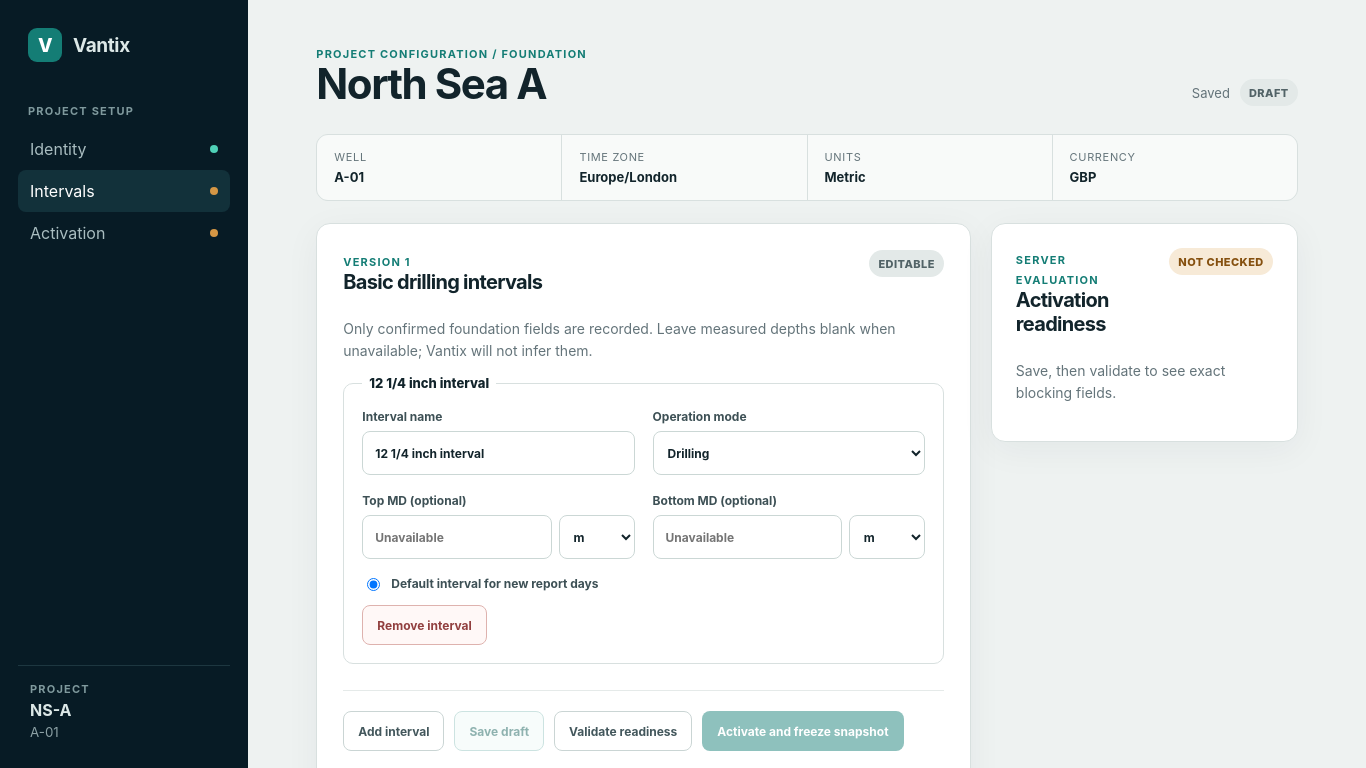
Test: project configuration workspace › VTX-PRJ-002 keeps activation gated by server readiness and labels depths optional
Expected: the dropdown named "top md unit" shows "m", [559, 516, 635, 560]
Expected: the button "Activate and freeze snapshot" is disabled, [702, 712, 904, 752]
Click the button "Validate readiness" at (623, 732), box [554, 712, 692, 752]
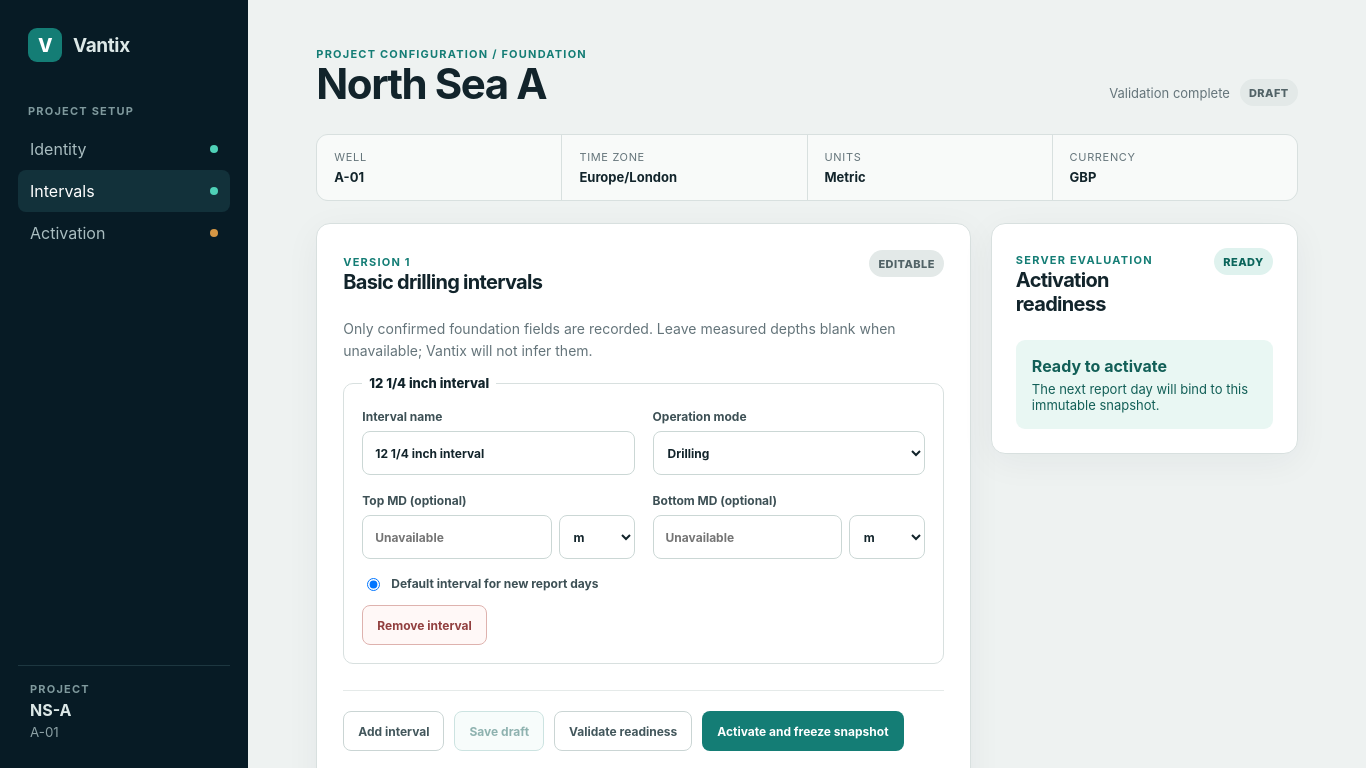
Result: the button "Activate and freeze snapshot" is enabled at [702, 712, 904, 752]
Replace the text in the field labelled "Interval name" with "Changed after validation" at (498, 454), box [362, 432, 635, 476]
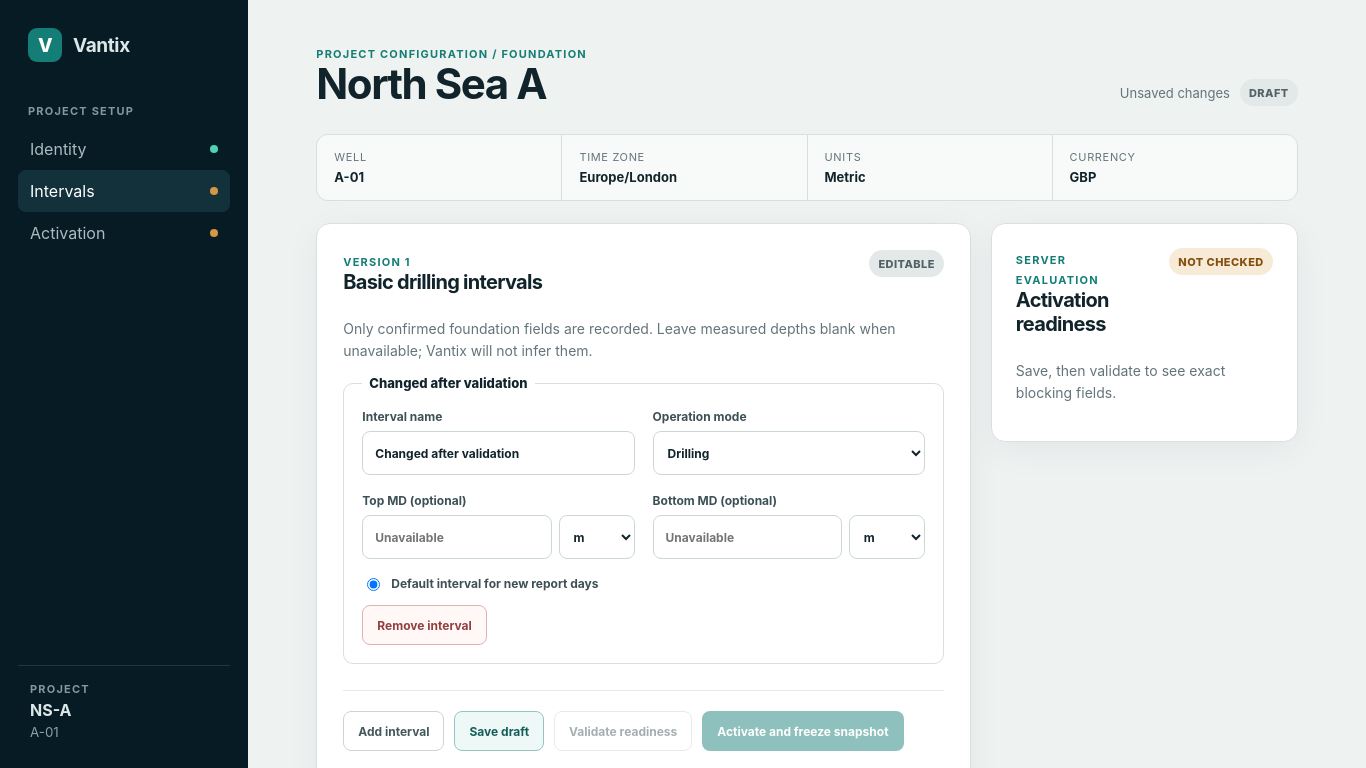
Result: the button "Activate and freeze snapshot" is disabled at [702, 712, 904, 752]
Result: the button "Validate readiness" is disabled at [554, 712, 692, 752]
Result: the button "Save draft" is enabled at [454, 712, 544, 752]
